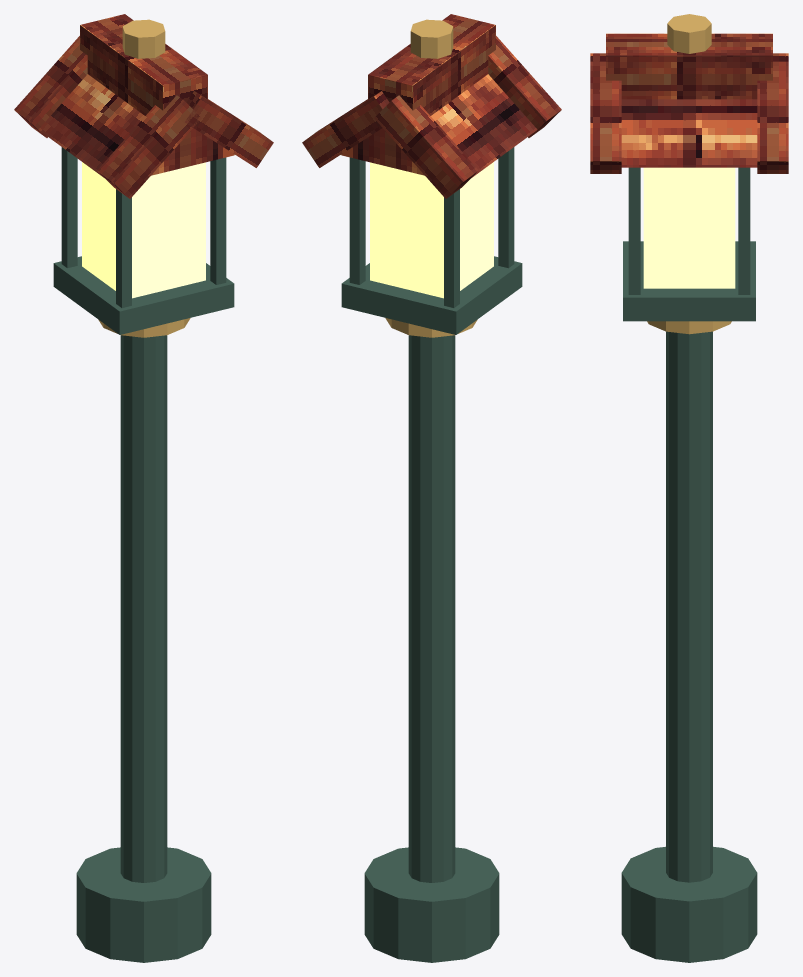
The model's file is lamp.glb.
The picture shows the model from 3 angles, left to right: view 1: azimuth 30°, elevation 25°; view 2: azimuth 150°, elevation 25°; view 3: azimuth 270°, elevation 25°; orthographic projection.
Visible parts, largest first — view 1: lamp_p9_iron, lamp_p9_roof, lamp_p9_glass, lamp_p9_gold; view 2: lamp_p9_iron, lamp_p9_roof, lamp_p9_glass, lamp_p9_gold; view 3: lamp_p9_iron, lamp_p9_roof, lamp_p9_glass, lamp_p9_gold.
Part boxes in pixels (bbox=[...]): lamp_p9_iron: bbox=[53, 147, 234, 962]; lamp_p9_roof: bbox=[14, 14, 273, 198]; lamp_p9_glass: bbox=[82, 162, 205, 298]; lamp_p9_gold: bbox=[98, 19, 190, 337]; lamp_p9_iron: bbox=[341, 147, 522, 962]; lamp_p9_roof: bbox=[302, 14, 561, 198]; lamp_p9_glass: bbox=[370, 162, 493, 298]; lamp_p9_gold: bbox=[385, 19, 477, 337]; lamp_p9_iron: bbox=[621, 167, 757, 962]; lamp_p9_roof: bbox=[590, 33, 788, 173]; lamp_p9_glass: bbox=[643, 167, 735, 288]; lamp_p9_gold: bbox=[647, 14, 731, 334].
Size of the model in its own units: 0.7174 by 3.85 by 0.76.
Materials: 4 (1 with a texture image).
